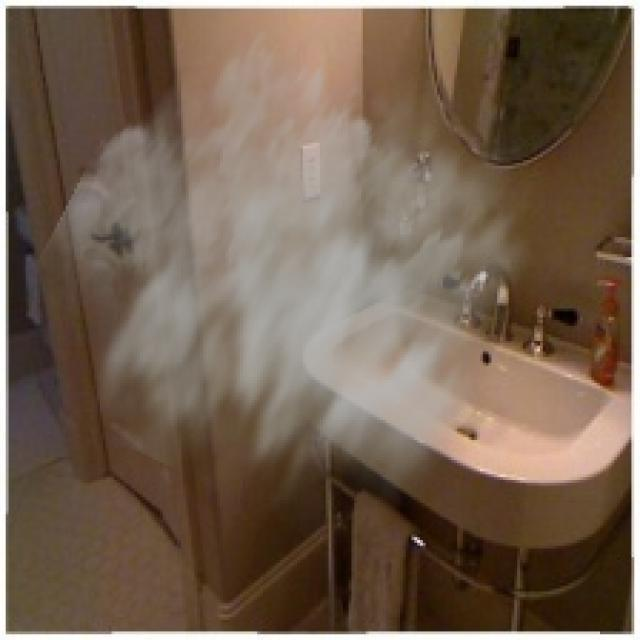Smoke: (22, 26, 552, 574)
